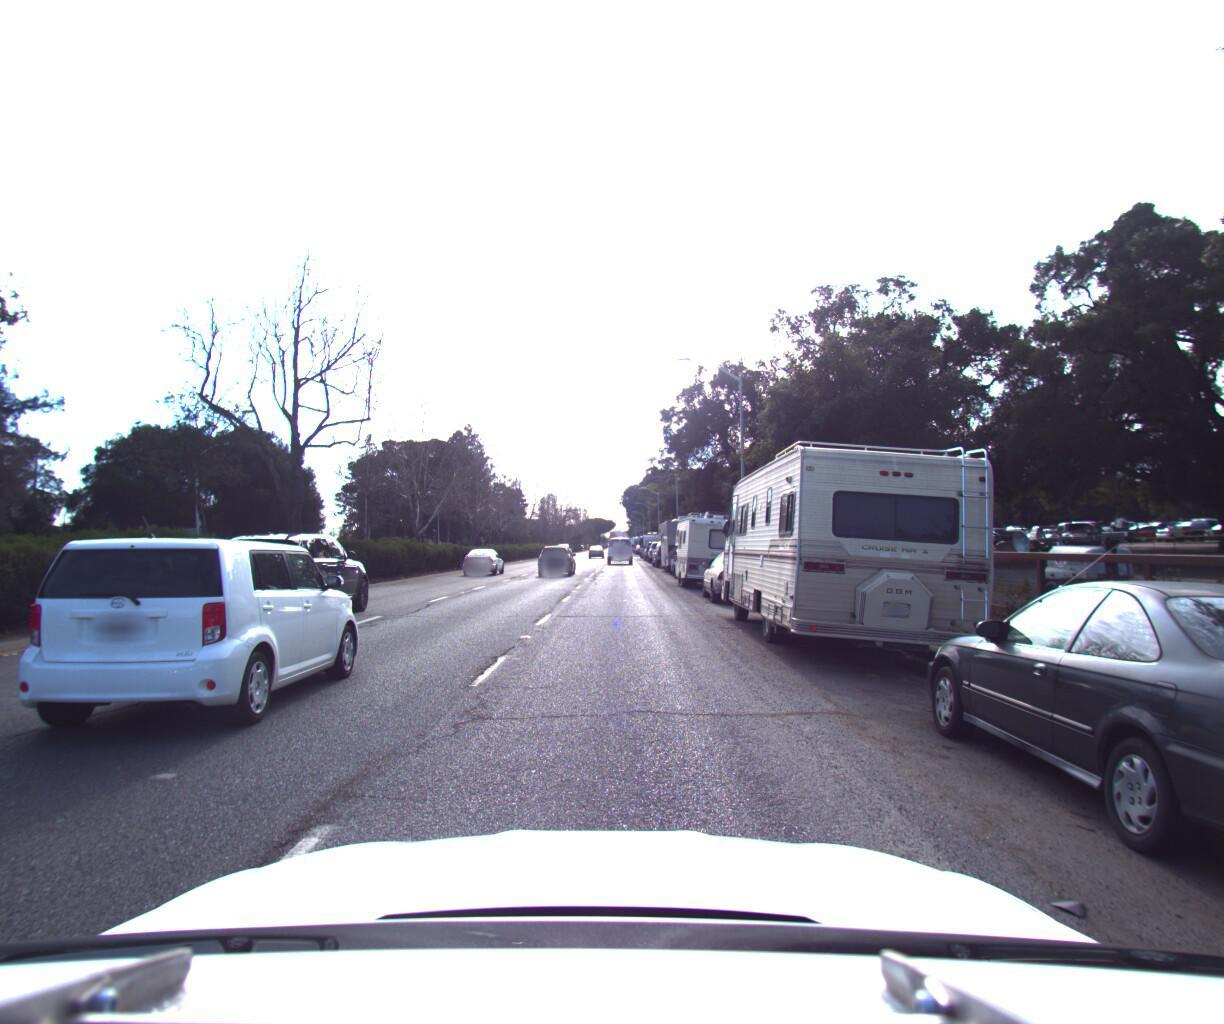car: (885, 562, 1224, 954), (0, 527, 369, 748), (212, 520, 382, 620), (690, 543, 787, 603), (461, 537, 507, 569), (534, 536, 576, 571), (650, 533, 679, 560), (606, 527, 632, 556)
other_vehicle: (712, 399, 1026, 668), (670, 498, 751, 586), (653, 503, 708, 565), (640, 522, 666, 554)
